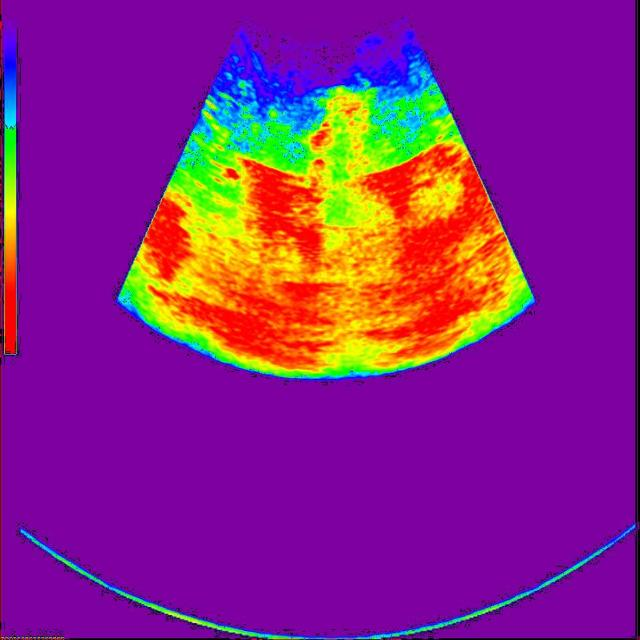lamb muscle post: (310, 87, 371, 178)
